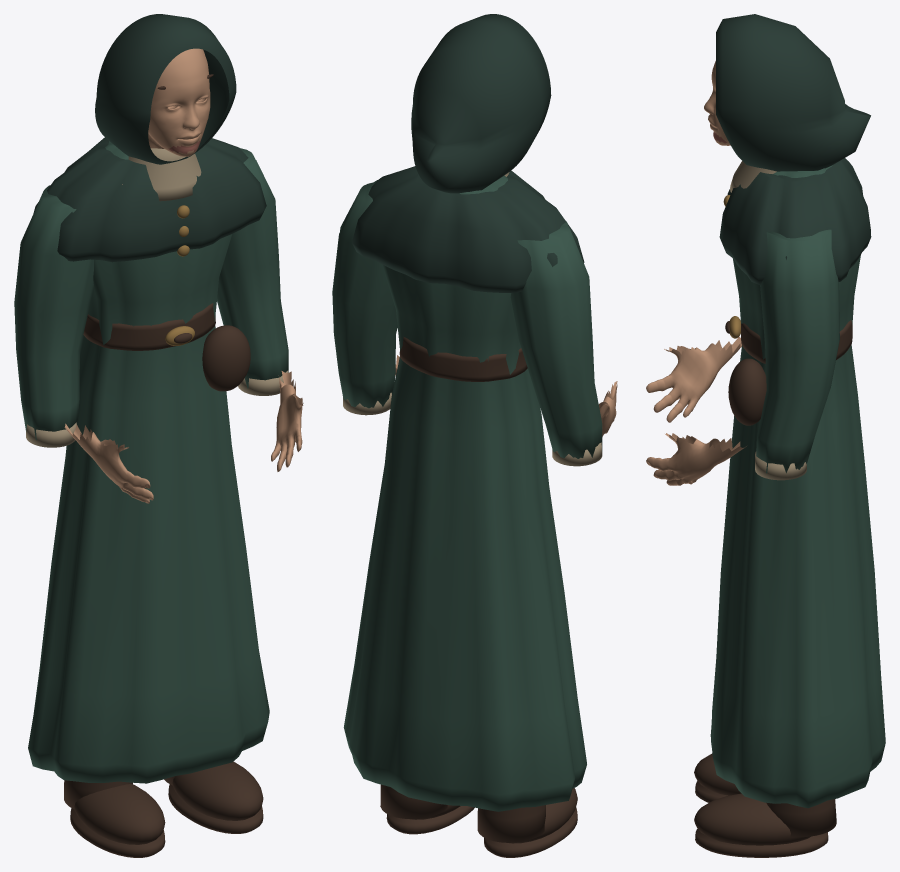
Rendered from Townsperson.fbx.
3 views of the same model, side by side, from view 1: azimuth 30°, elevation 25°; view 2: azimuth 150°, elevation 25°; view 3: azimuth 270°, elevation 25° (orthographic).
Parts seen in each view (by area): view 1: Townsperson; view 2: Townsperson; view 3: Townsperson.
Boxes of the visible parts, box(x1,y1,x2,y2) form: Townsperson: box(14, 14, 303, 857); Townsperson: box(332, 14, 617, 857); Townsperson: box(646, 14, 885, 857).
Size of the model in its own units: 56.65 by 170 by 46.01.
